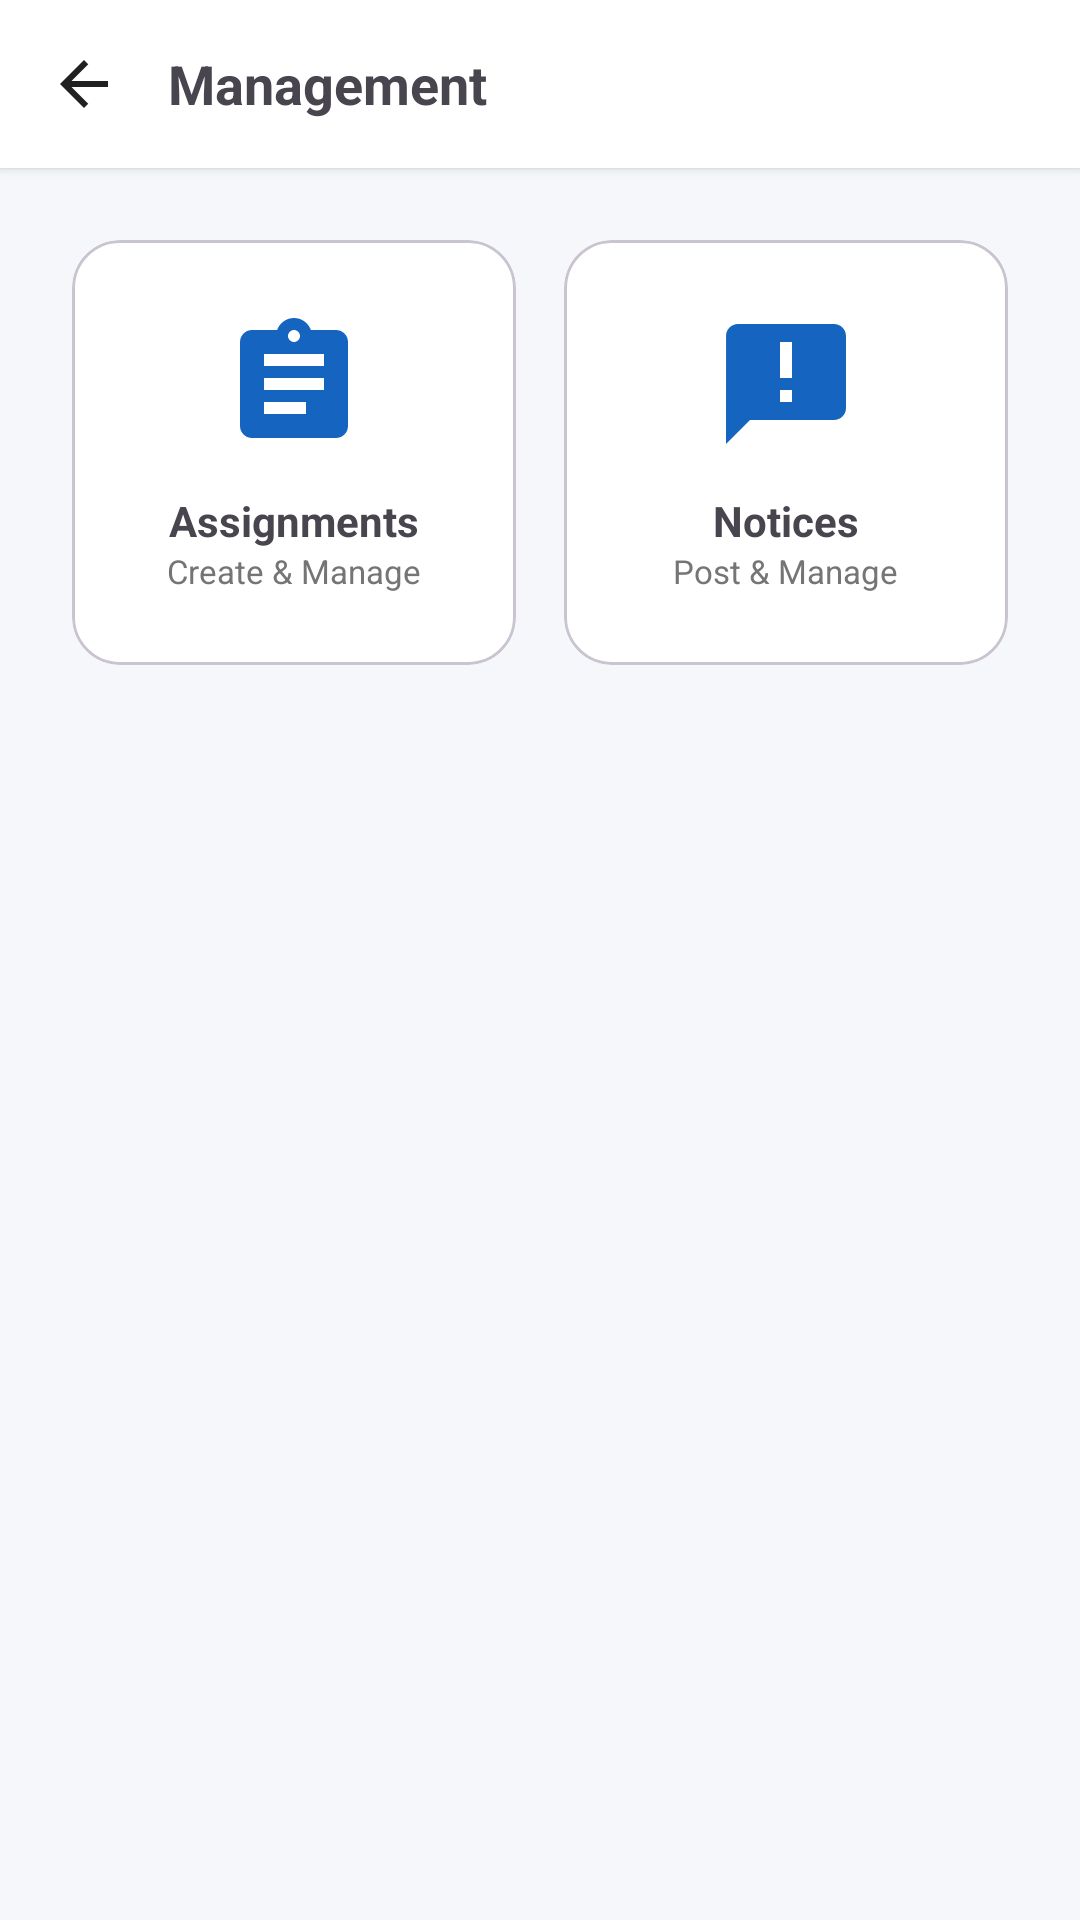

Named icons in this screenshot (1080px x 1920px) and their bounding boxes, bbox(x1, y1, x2, y2):
Back: bbox(60, 60, 108, 108)
